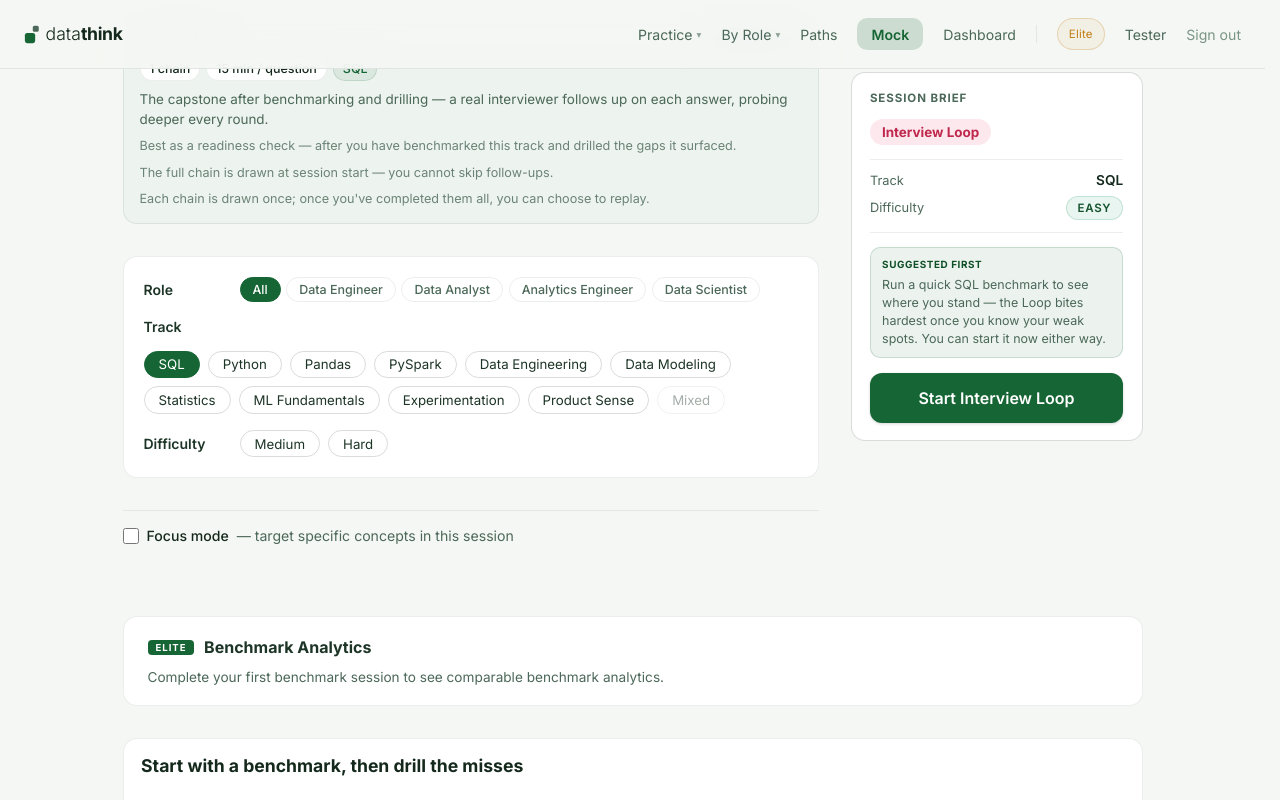
Scenario: MockHub Interview Loop + Mixed track › greys the Mixed track pill on Interview Loop and shows a note (no switch) when clicked
(page scrolled)
Expected: the button "Start Interview Loop" is shown, [870,372,1123,422]
What coordinates should you click on to do the following:
click the button "Mixed"
I would click on:
 (691, 400)
Its box is [657,386,725,414].
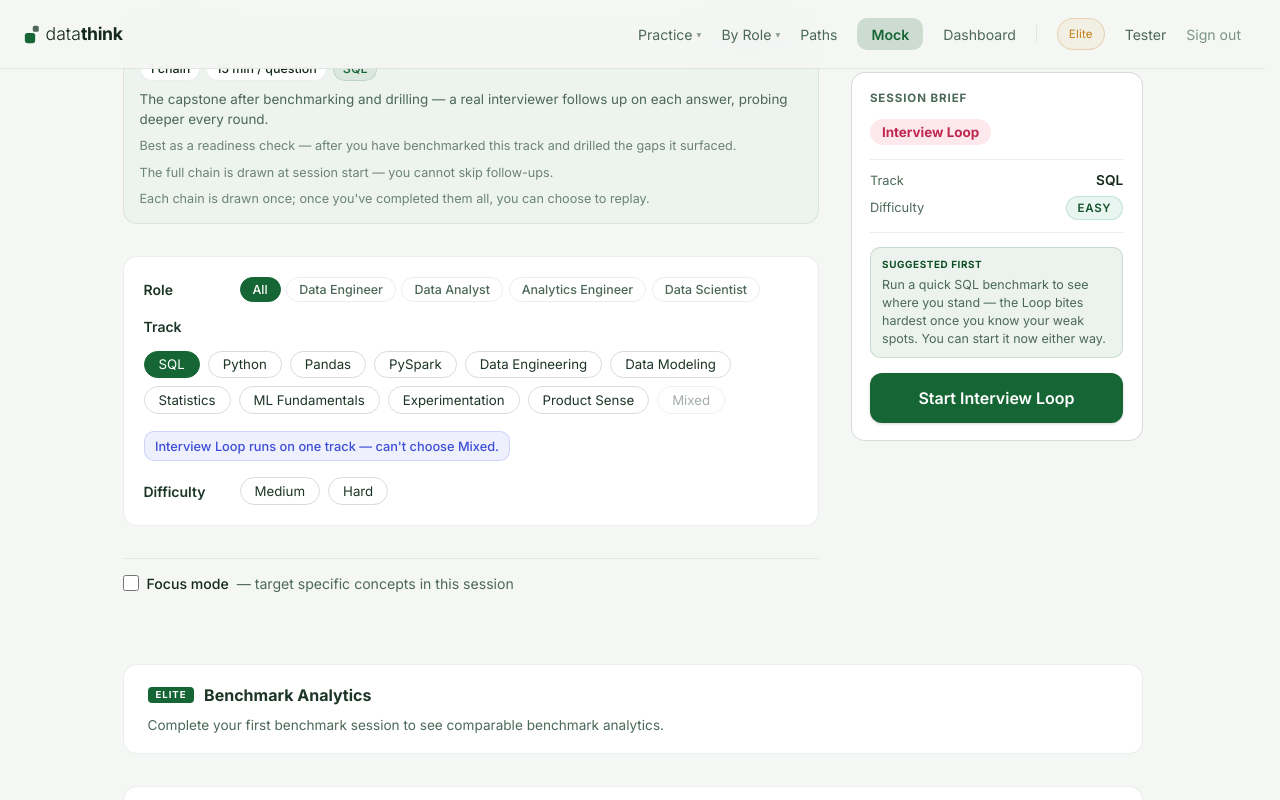
Expected: the text "Interview Loop runs on one track — can't choose Mixed." is shown, [144,432,510,461]
